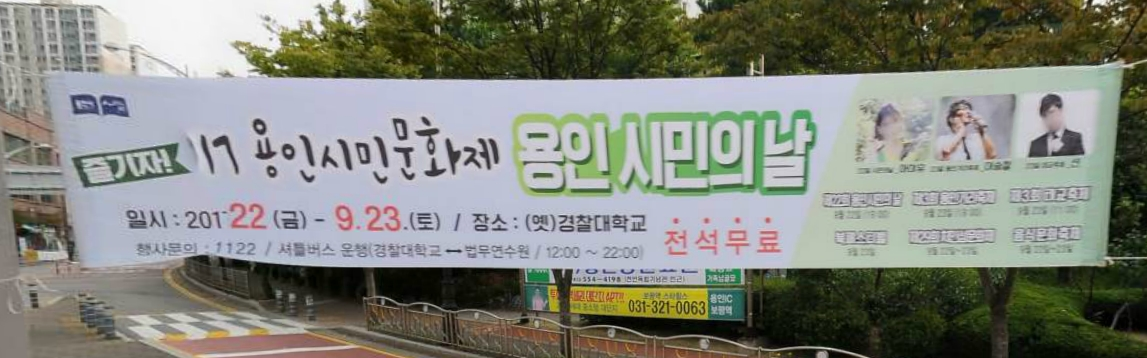banner: (51, 61, 1124, 278)
